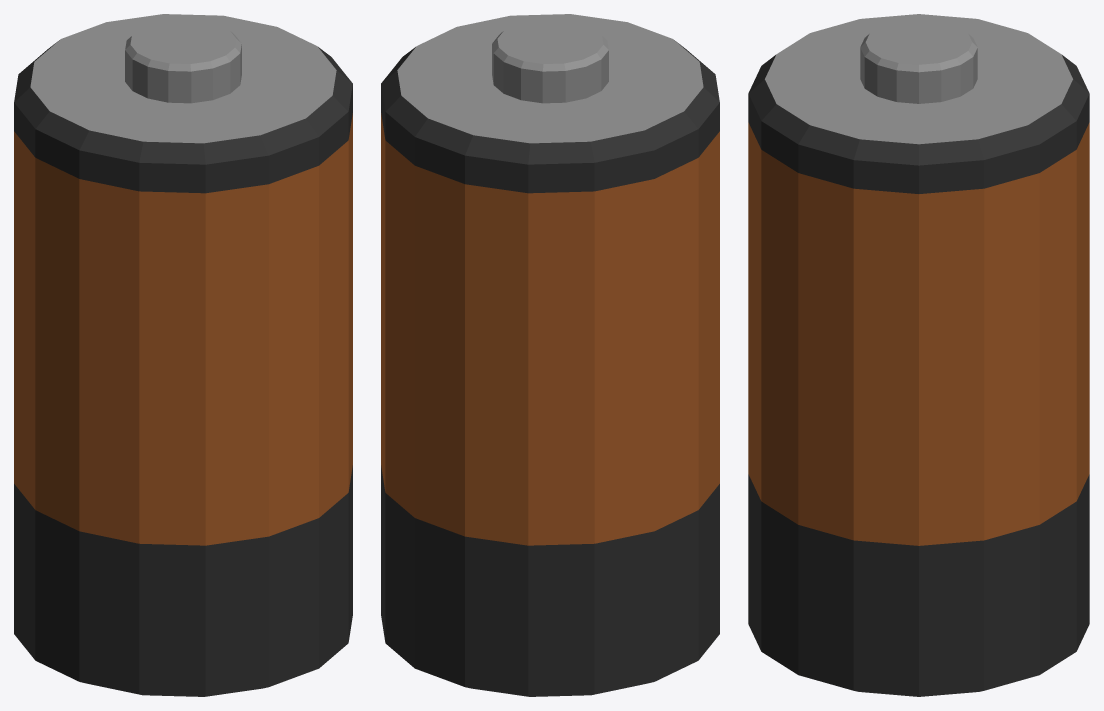
The model's file is battery.fbx.
3 renders of one model, left to right at view 1: azimuth 30°, elevation 25°; view 2: azimuth 150°, elevation 25°; view 3: azimuth 270°, elevation 25°, orthographic.
Visible parts, largest first — view 1: Battery; view 2: Battery; view 3: Battery.
Boxes of the visible parts, x1=… form: Battery: x1=14, y1=14, x2=352, y2=696; Battery: x1=381, y1=14, x2=719, y2=696; Battery: x1=748, y1=14, x2=1089, y2=696.
Bounding box in the file's own units: 30.1 × 30.1 × 57.26.
